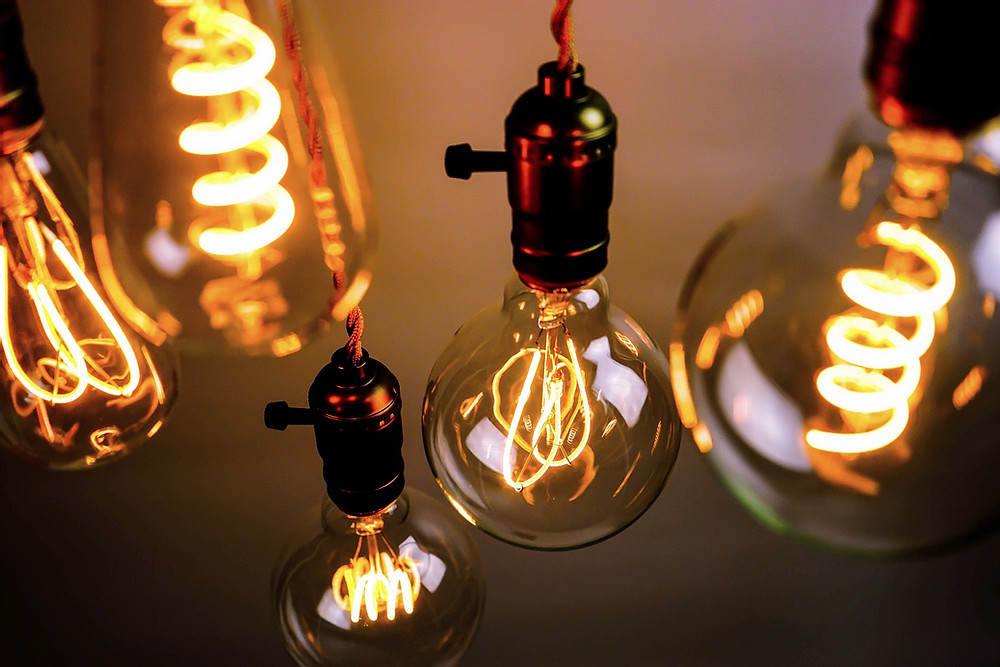Light_bulb: (407, 221, 696, 566), (261, 467, 494, 667)
